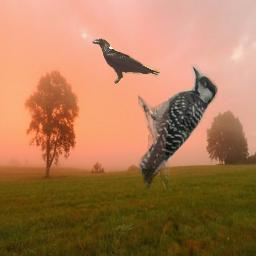Crow: (91, 38, 160, 84)
Woodpecker: (138, 61, 218, 189)
